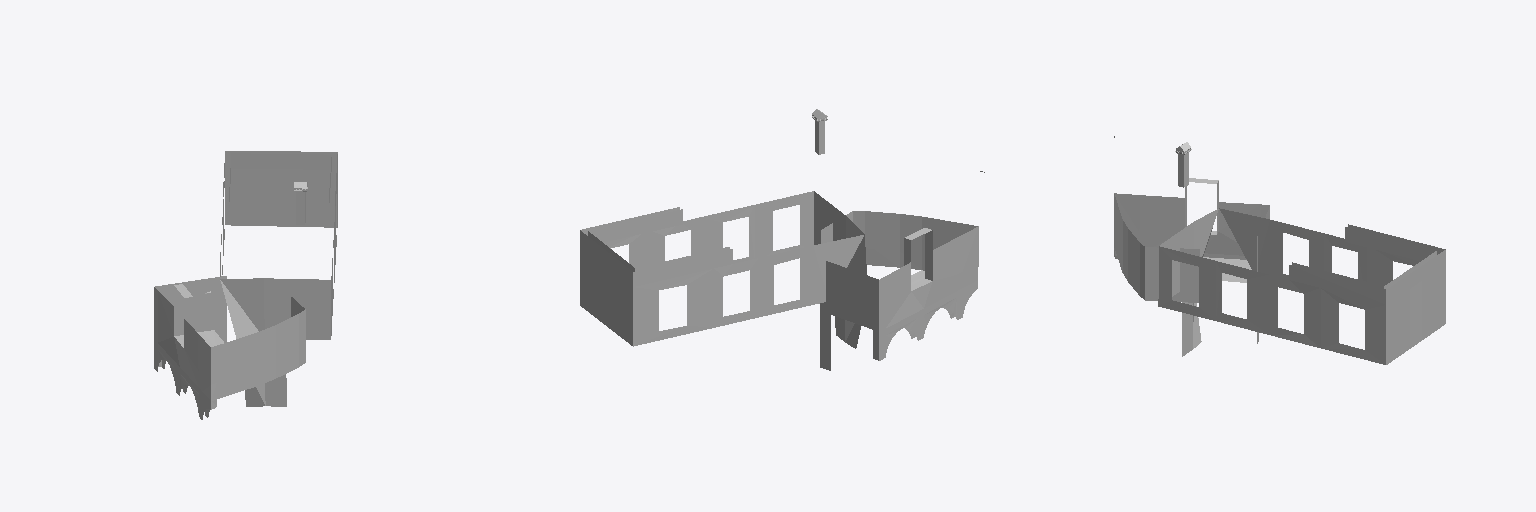
The model's file is venice_39.obj.
The picture shows the model from 3 angles: view 1: azimuth 30°, elevation 25°; view 2: azimuth 150°, elevation 25°; view 3: azimuth 270°, elevation 25°; orthographic projection.
Bounding box in the file's own units: 13.34 × 10.42 × 14.2.